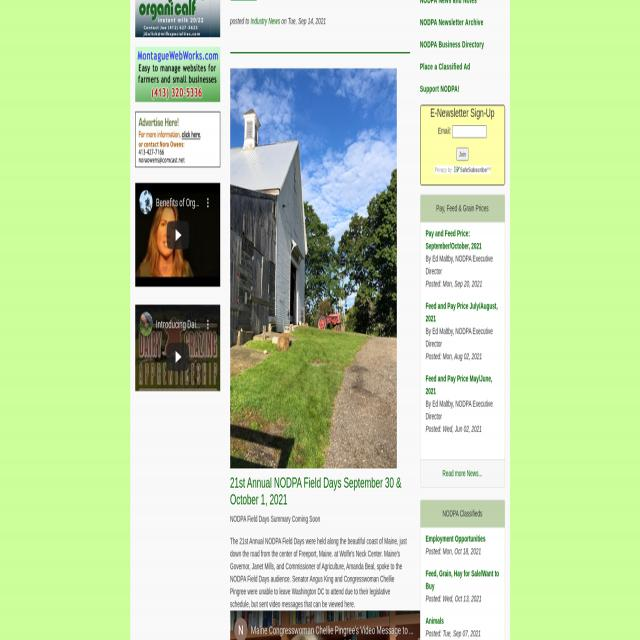button: (230, 69, 397, 468), (135, 182, 220, 286), (135, 304, 221, 392), (231, 611, 420, 640), (135, 111, 220, 168), (135, 46, 220, 102), (135, 0, 220, 37), (167, 342, 190, 372), (167, 221, 190, 249), (138, 189, 154, 216), (139, 312, 153, 338), (202, 313, 214, 336), (203, 190, 213, 214), (456, 148, 469, 161)
field: (452, 126, 487, 138)
